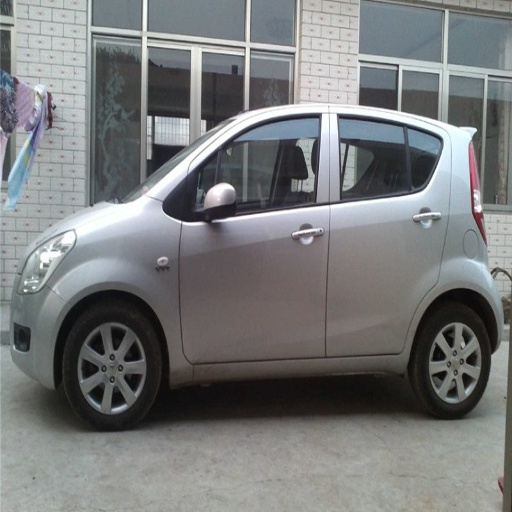back_left_door: (326, 111, 447, 356)
front_left_door: (180, 112, 329, 365)
